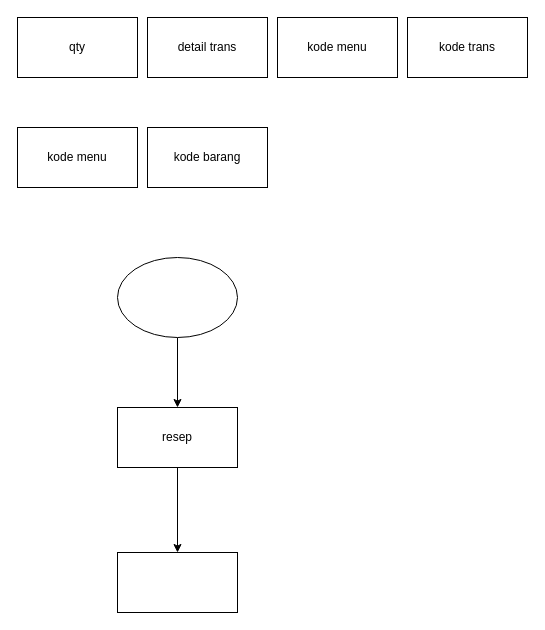
Image size: 545x630. Some labels were removed from this diagram. The centre of each missing label's shape, as x and y in pixels:
"kurangi stok barang mengguanakan jumlah barangResep" goes at pixel 177 582.
"start" goes at pixel 177 297.
